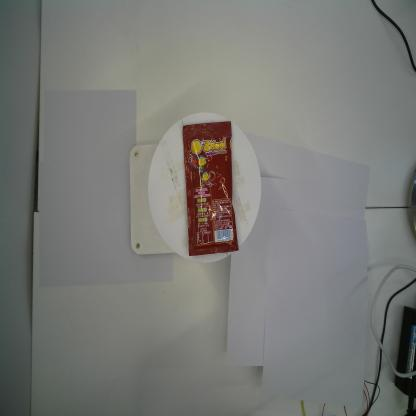Candy: (180, 119, 241, 258)
